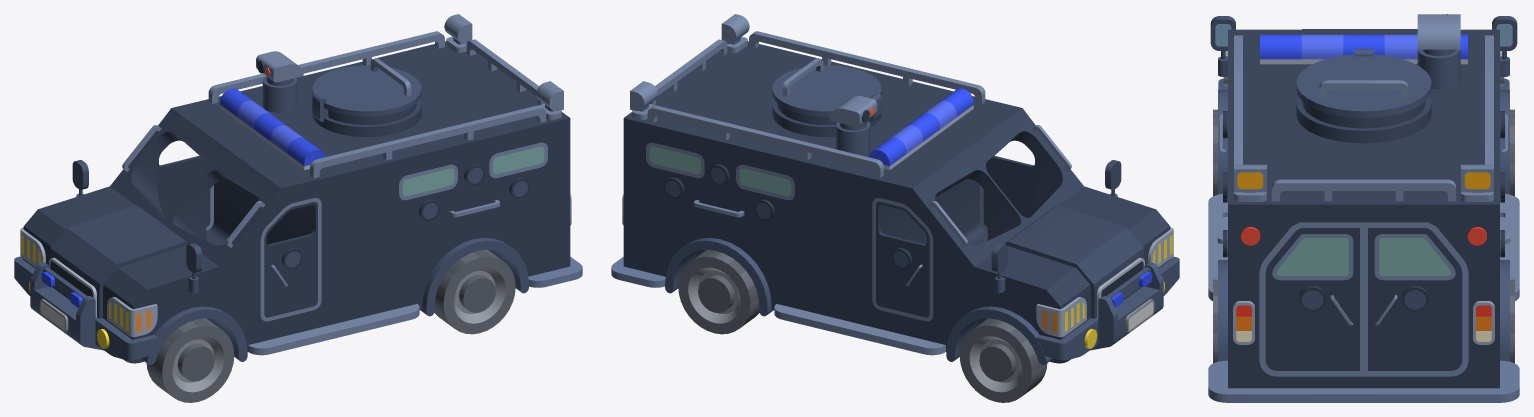
The model's file is Swat Des.fbx.
3 views of the same model, side by side, from view 1: azimuth 30°, elevation 25°; view 2: azimuth 150°, elevation 25°; view 3: azimuth 270°, elevation 25° (orthographic). The views are drawn at different scales.
Visible parts, largest first — view 1: Swat Truck des, Swat Truck.003, Swat Truck Wheel.003, Swat Truck Wheel.002, Swat Truck Cover.001, Swat Truck.002; view 2: Swat Truck des, Swat Truck.002, Swat Truck Wheel.004, Swat Truck Wheel.005, Swat Truck Cover.001, Swat Truck.003; view 3: Swat Truck des, Swat Truck Door.002, Swat Truck Door.003, Swat Truck Cover.001, Swat Truck Wheel.003, Swat Truck Wheel.004, Swat Truck Wheel.002, Swat Truck Wheel.005.
Part boxes in pixels (x1,y1,x2,y2): Swat Truck des: (14, 14, 582, 364); Swat Truck.003: (260, 198, 321, 321); Swat Truck Wheel.003: (146, 318, 234, 402); Swat Truck Wheel.002: (434, 249, 515, 334); Swat Truck Cover.001: (312, 58, 421, 116); Swat Truck.002: (157, 145, 213, 230); Swat Truck des: (611, 14, 1179, 364); Swat Truck.002: (872, 198, 933, 321); Swat Truck Wheel.004: (959, 318, 1047, 402); Swat Truck Wheel.005: (678, 249, 759, 334); Swat Truck Cover.001: (772, 58, 881, 116); Swat Truck.003: (980, 145, 1036, 230); Swat Truck des: (1208, 14, 1519, 402); Swat Truck Door.002: (1364, 222, 1468, 376); Swat Truck Door.003: (1259, 222, 1363, 376); Swat Truck Cover.001: (1296, 54, 1431, 117); Swat Truck Wheel.003: (1213, 109, 1217, 196); Swat Truck Wheel.004: (1510, 109, 1514, 196); Swat Truck Wheel.002: (1213, 279, 1217, 363); Swat Truck Wheel.005: (1510, 279, 1514, 363).
Bounding box in the file's own units: 13.57 × 6.44 × 6.25.
